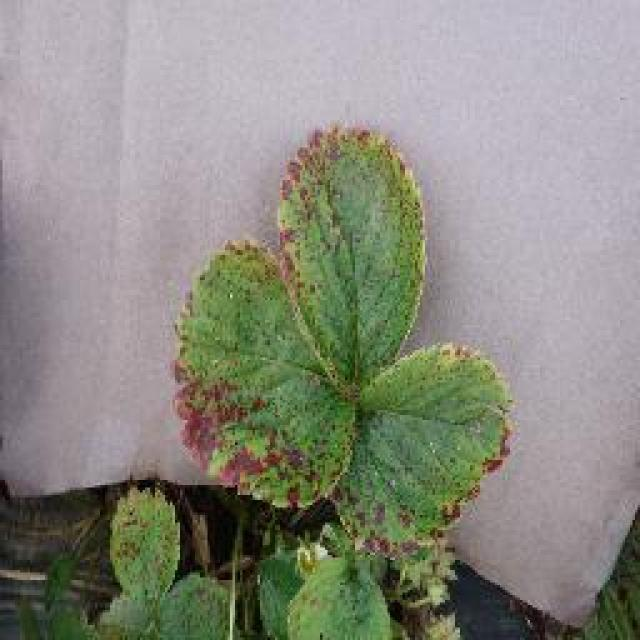Strawberry leaf scorch: (296, 152, 416, 340)
